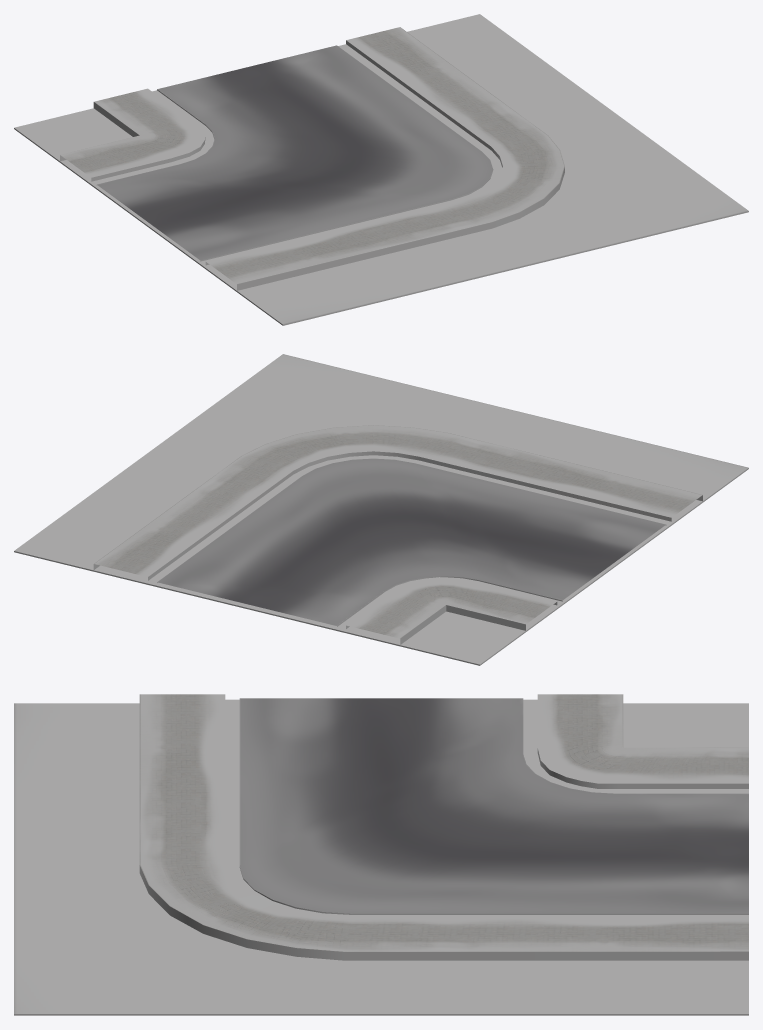
The model's file is Curved_Turn.fbx.
3 views of the same model, one above another, from view 1: azimuth 30°, elevation 25°; view 2: azimuth 150°, elevation 25°; view 3: azimuth 270°, elevation 25° (orthographic). The views are drawn at different scales.
Visible parts, largest first — view 1: Road_10X28, Road_10X27; view 2: Road_10X28, Road_10X27; view 3: Road_10X28, Road_10X27.
Boxes of the visible parts, x1,y1,x2,y2 form: Road_10X28: (60,27,564,290); Road_10X27: (14,14,748,325); Road_10X28: (93,425,702,644); Road_10X27: (14,354,748,665); Road_10X28: (139,694,748,960); Road_10X27: (14,703,748,1015).
Bounding box in the file's own units: 1000 × 16.37 × 1000.
